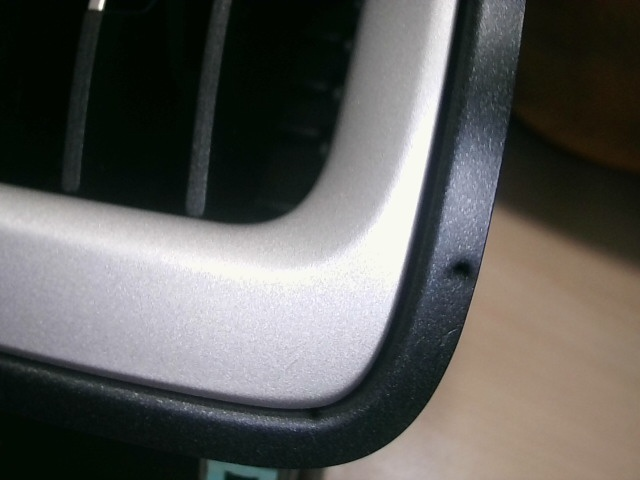NG: (434, 323, 459, 349), (280, 352, 303, 376)
